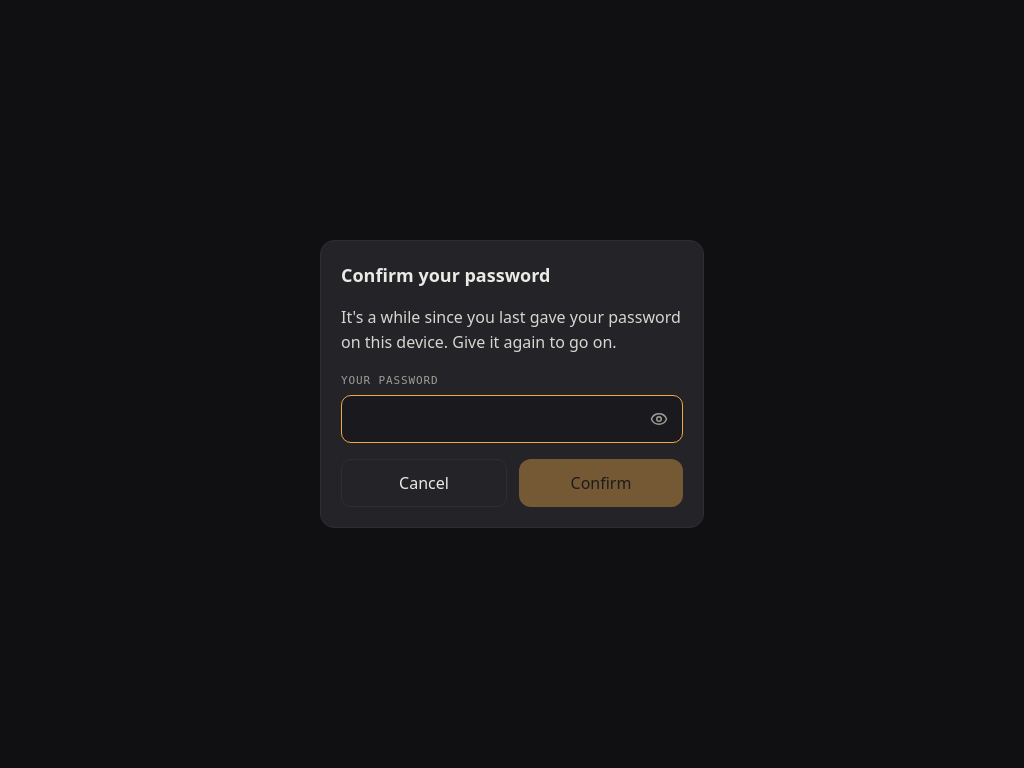
Test: PasswordPrompt › shows the wait of a rate limit
Type "wrong" into the password field labelled "Your password".
click(512, 419); type("wrong")  # box [341,395,683,443]
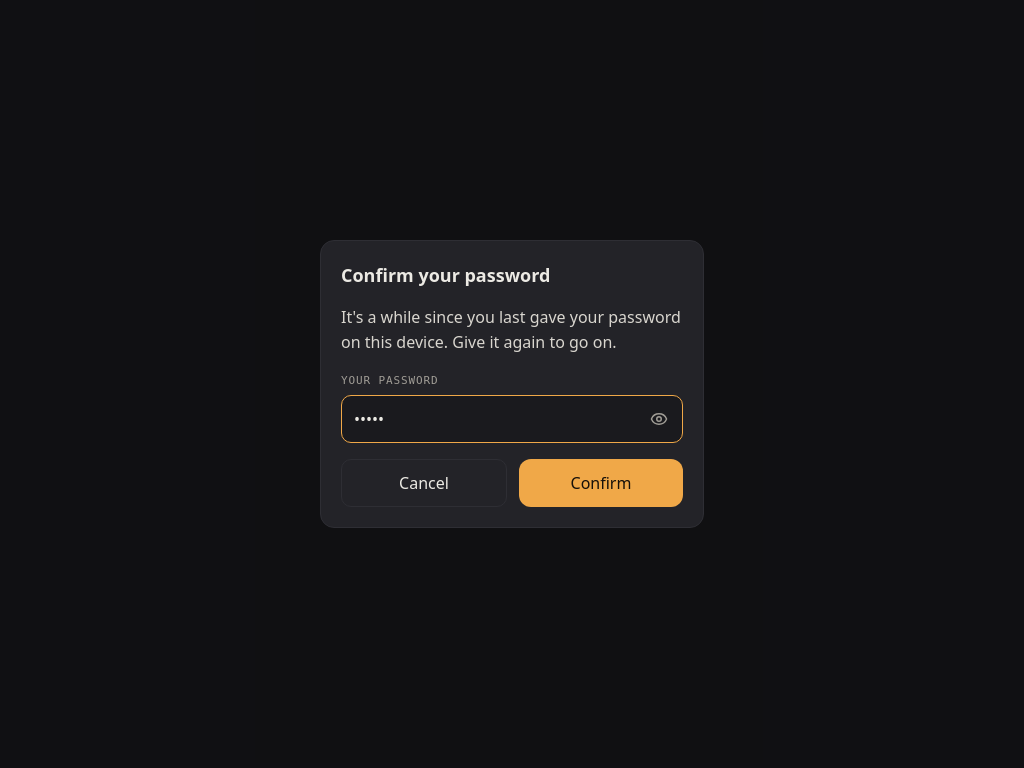
Click the button "Confirm".
click(601, 483)  # box [519,459,683,507]
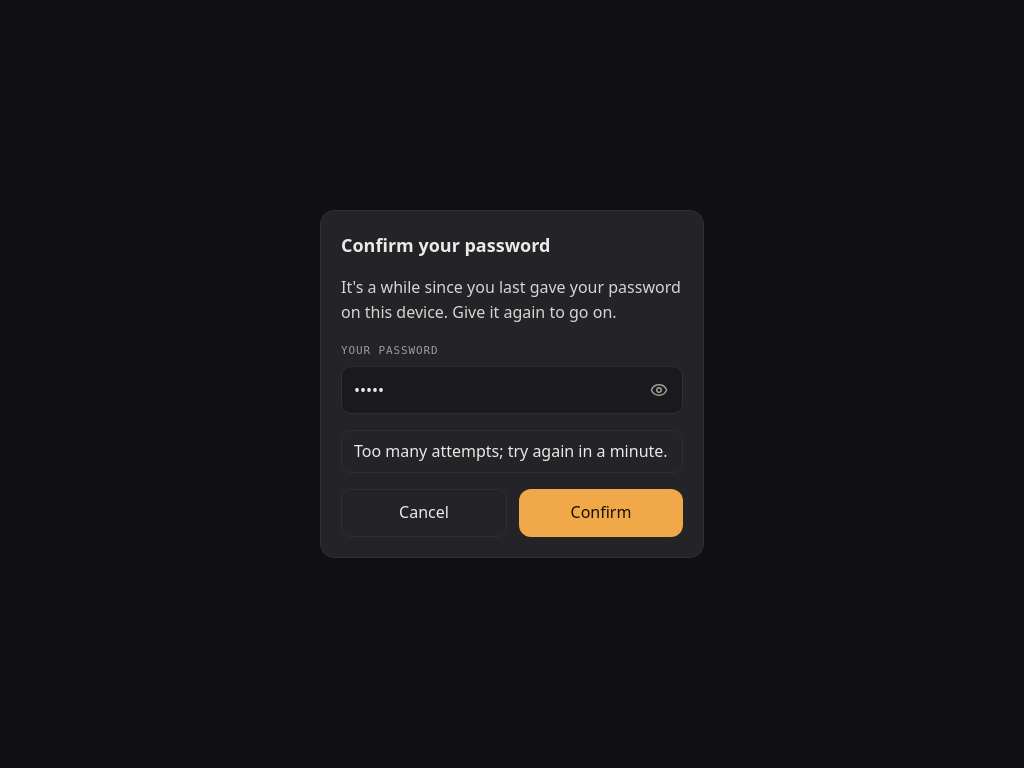
Now the text "Too many attempts; try again in a minute." is shown, box [341,430,683,473]
